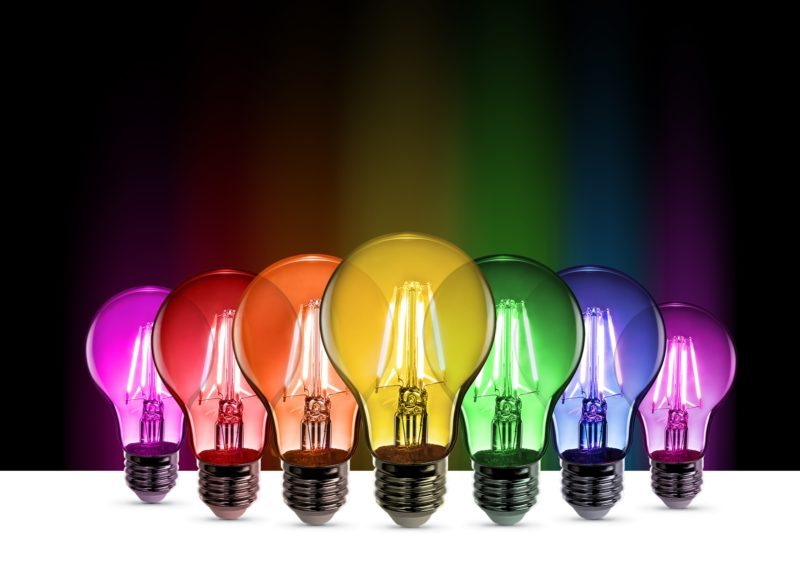Nonrec_Glass: (42, 226, 760, 527), (317, 222, 497, 532), (225, 230, 393, 524), (530, 257, 668, 528)
